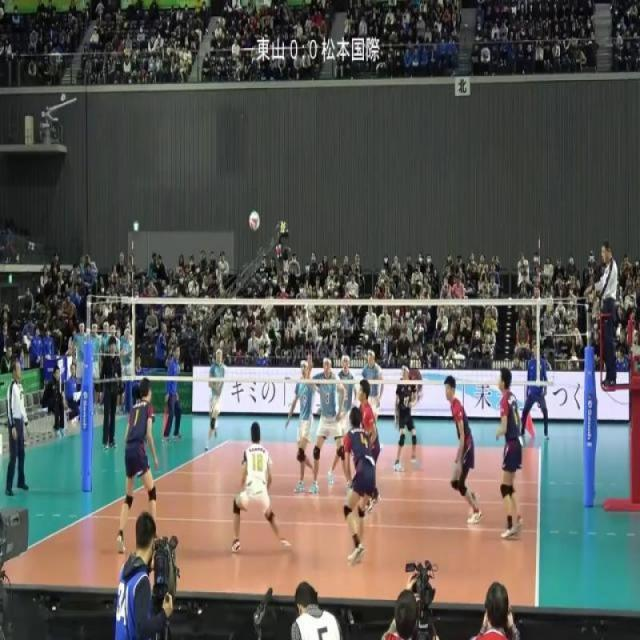volleyball: (248, 209, 261, 232)
